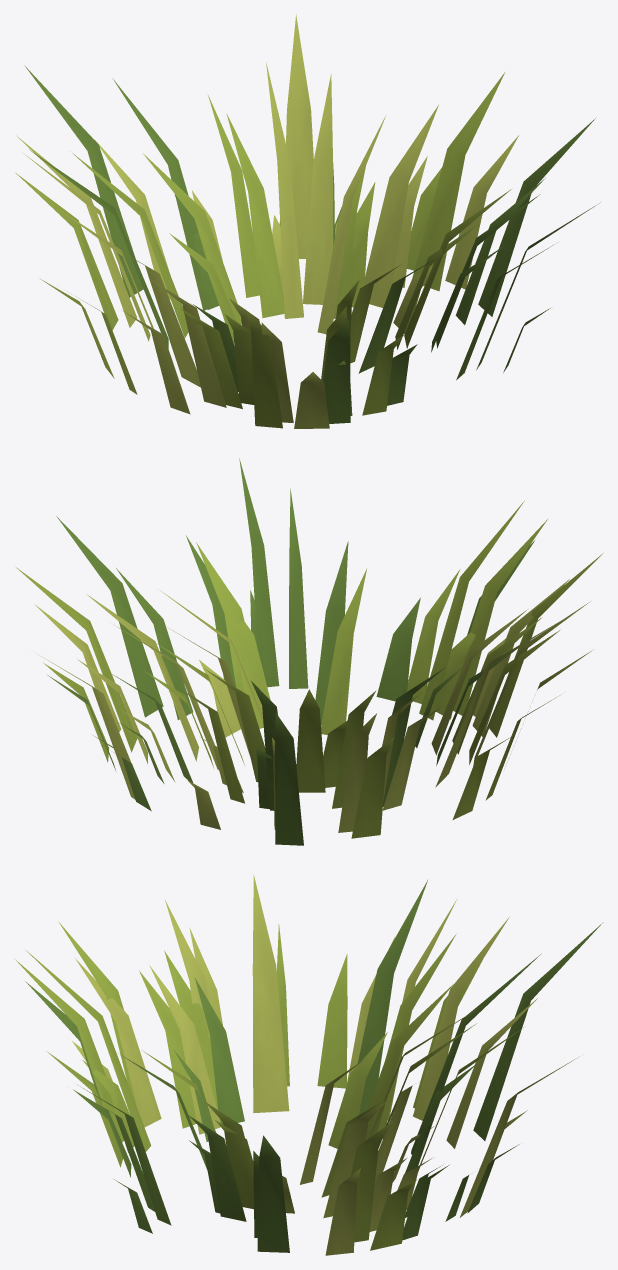
File: Grass_B.glb
3 views of the same model, one above another, from view 1: azimuth 30°, elevation 25°; view 2: azimuth 150°, elevation 25°; view 3: azimuth 270°, elevation 25° (orthographic). The views are drawn at different scales.
Parts seen in each view (by area): view 1: Grass_B; view 2: Grass_B; view 3: Grass_B.
Boxes of the visible parts, x1,y1,x2,y2 form: Grass_B: (15,14,600,428); Grass_B: (16,458,603,845); Grass_B: (14,875,603,1255).
Bounding box in the file's own units: 1.44 × 0.5132 × 1.41.
Materials: 1 (1 with a texture image).
